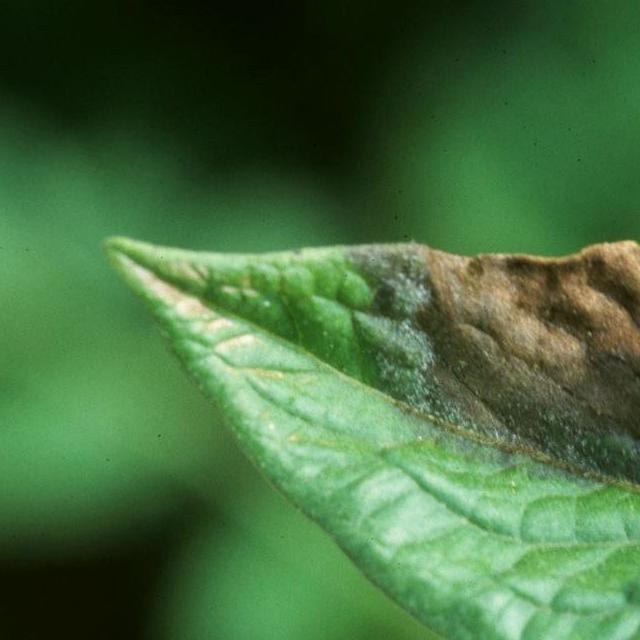Tomato leaf late blight: (73, 117, 640, 640)
